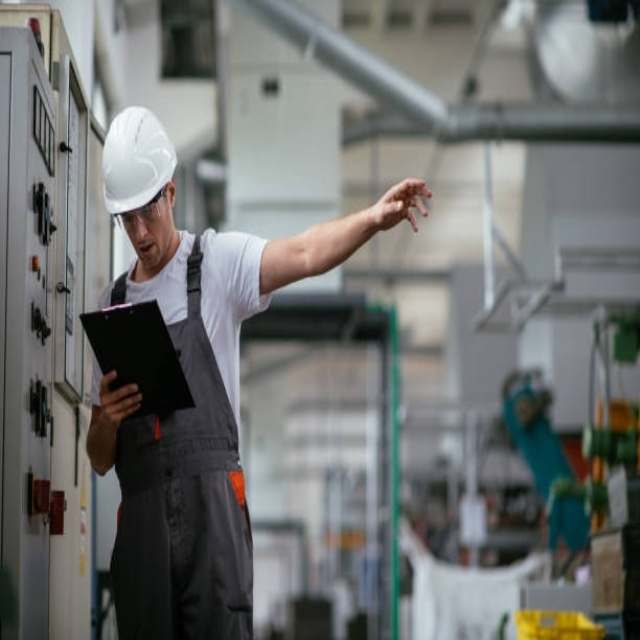Gafas: (117, 184, 168, 231)
Sin_guantes: (372, 177, 432, 237), (94, 371, 143, 429)
Sin_mascara: (132, 240, 160, 265)
